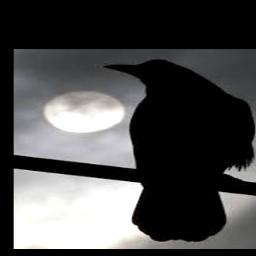Crow: (101, 59, 256, 243)
